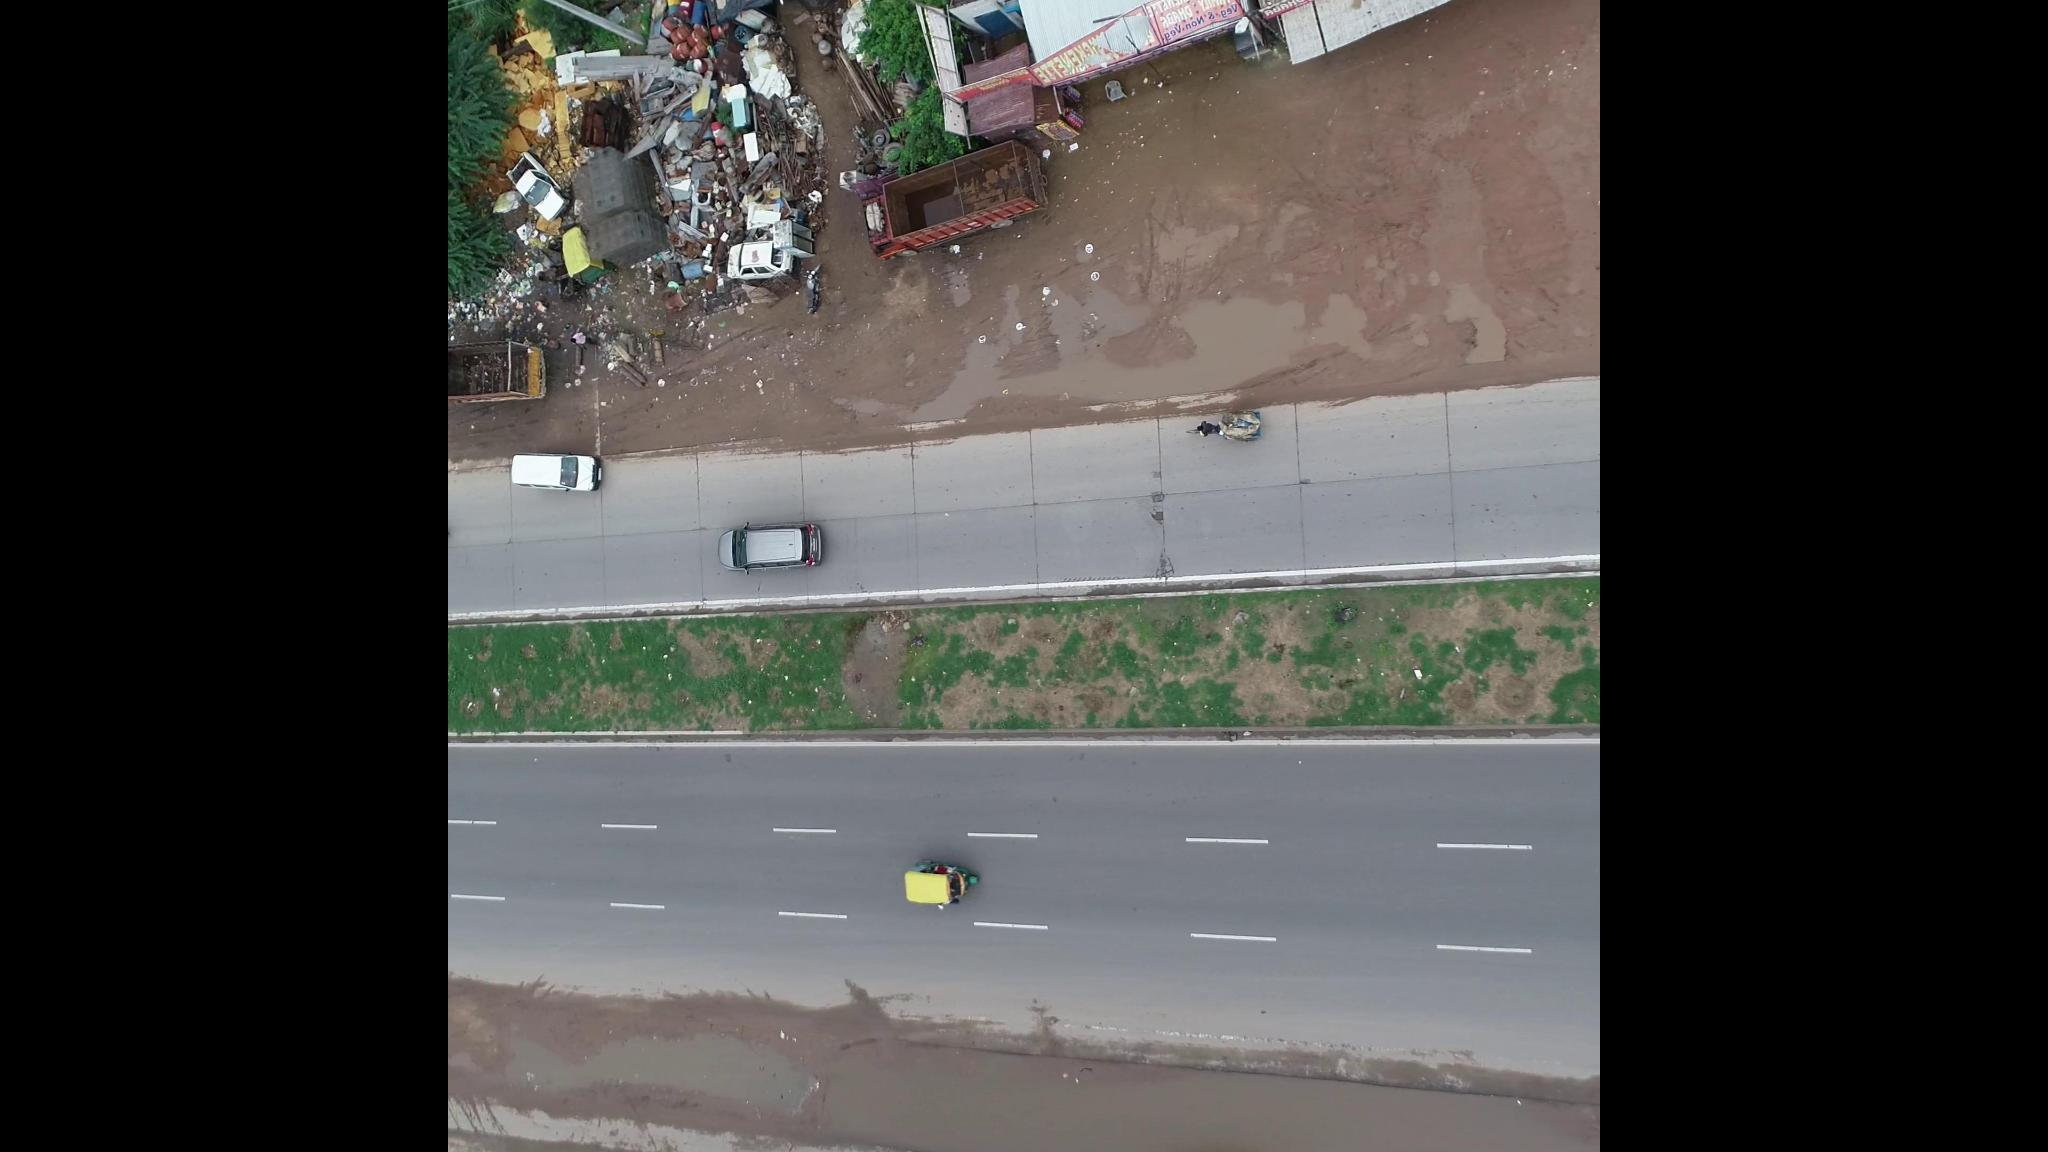Waterlogging: (852, 1058, 1578, 1152)
